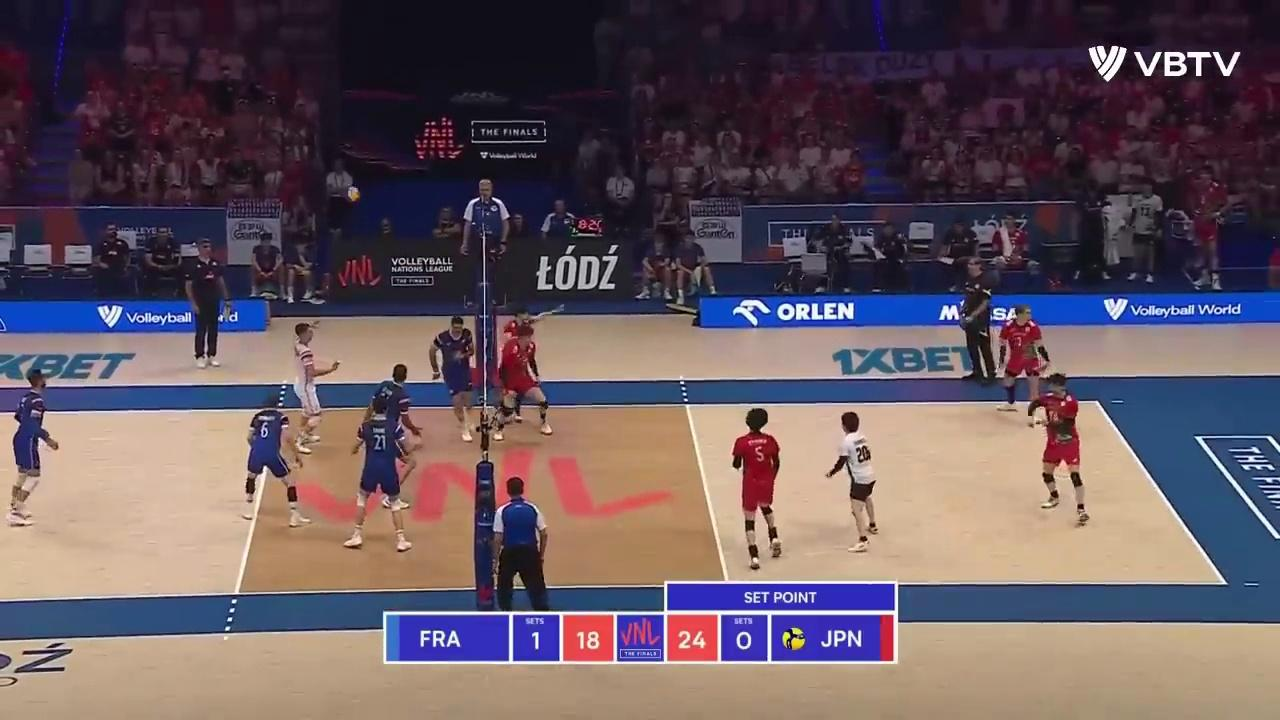ball: (345, 188, 361, 201)
